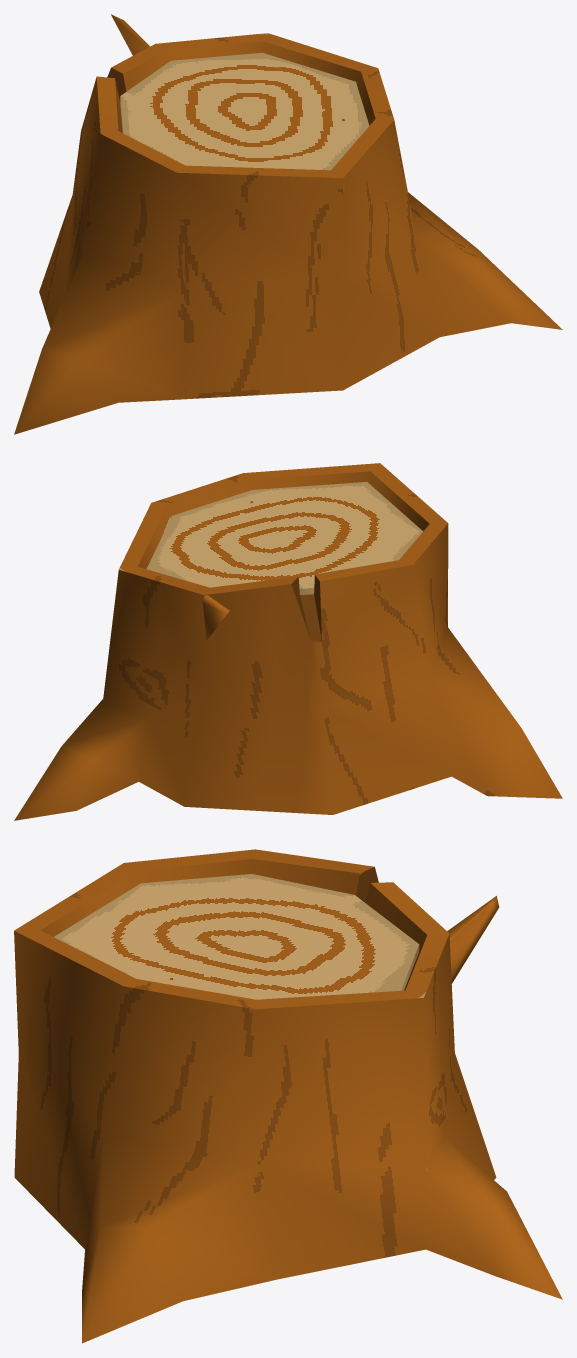
The model's file is trunk.glb.
3 renders of one model, top to bottom at view 1: azimuth 30°, elevation 25°; view 2: azimuth 150°, elevation 25°; view 3: azimuth 270°, elevation 25°, orthographic. The views are drawn at different scales.
Visible parts, largest first — view 1: trunk; view 2: trunk; view 3: trunk.
Part boxes in pixels (left/top/right/bottom): trunk: left=14, top=14, right=562, bottom=434; trunk: left=14, top=463, right=562, bottom=820; trunk: left=14, top=849, right=562, bottom=1343.
Bounding box in the file's own units: 2.84 × 1.39 × 2.28.
1 material, 1 textured.
